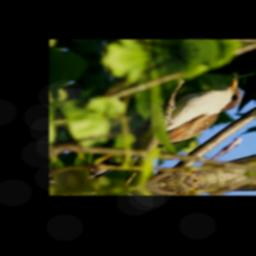Cuckoo: (68, 71, 256, 183)
